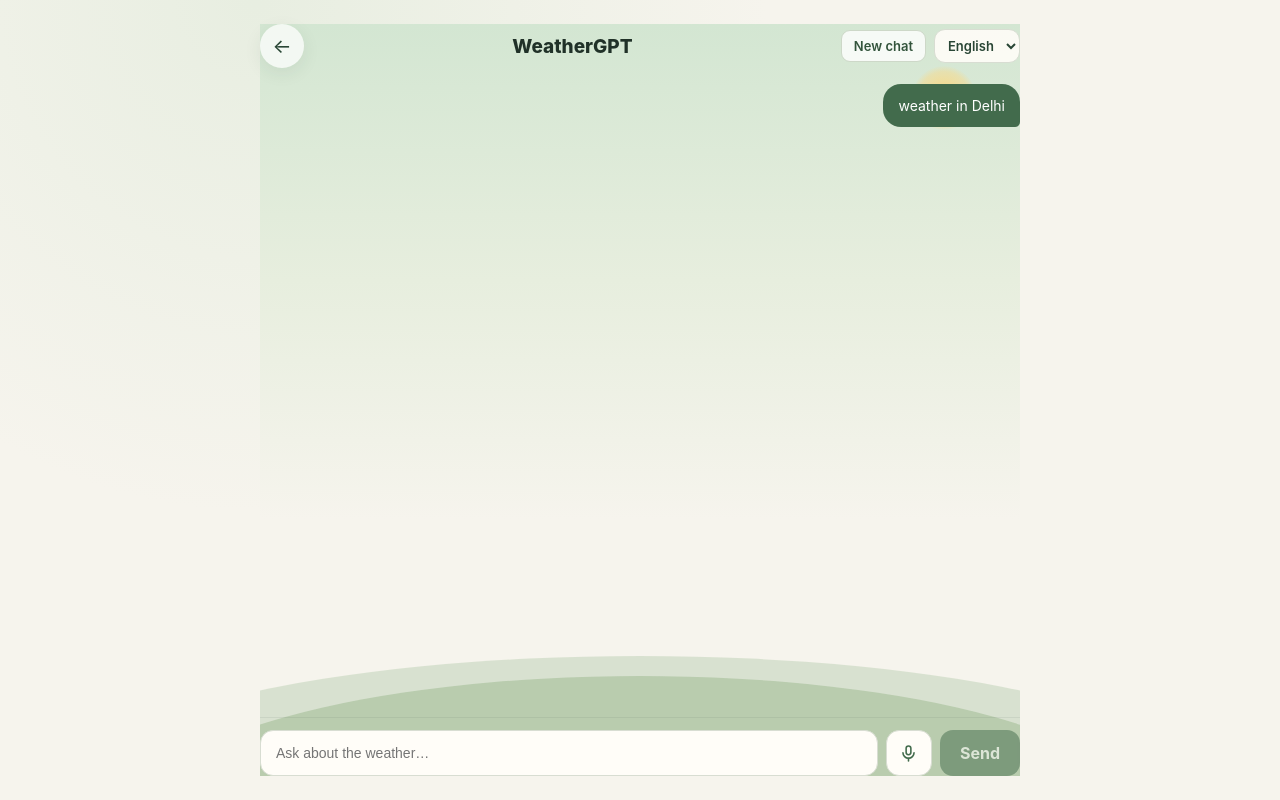
Scenario: starts a fresh conversation with New chat
The width and height of the screenshot is (1280, 800).
Check: the text "weather in Delhi" is shown, box left=898, top=95, right=1005, bottom=116
Click the button "New chat".
click(883, 46)  # box left=841, top=30, right=926, bottom=62
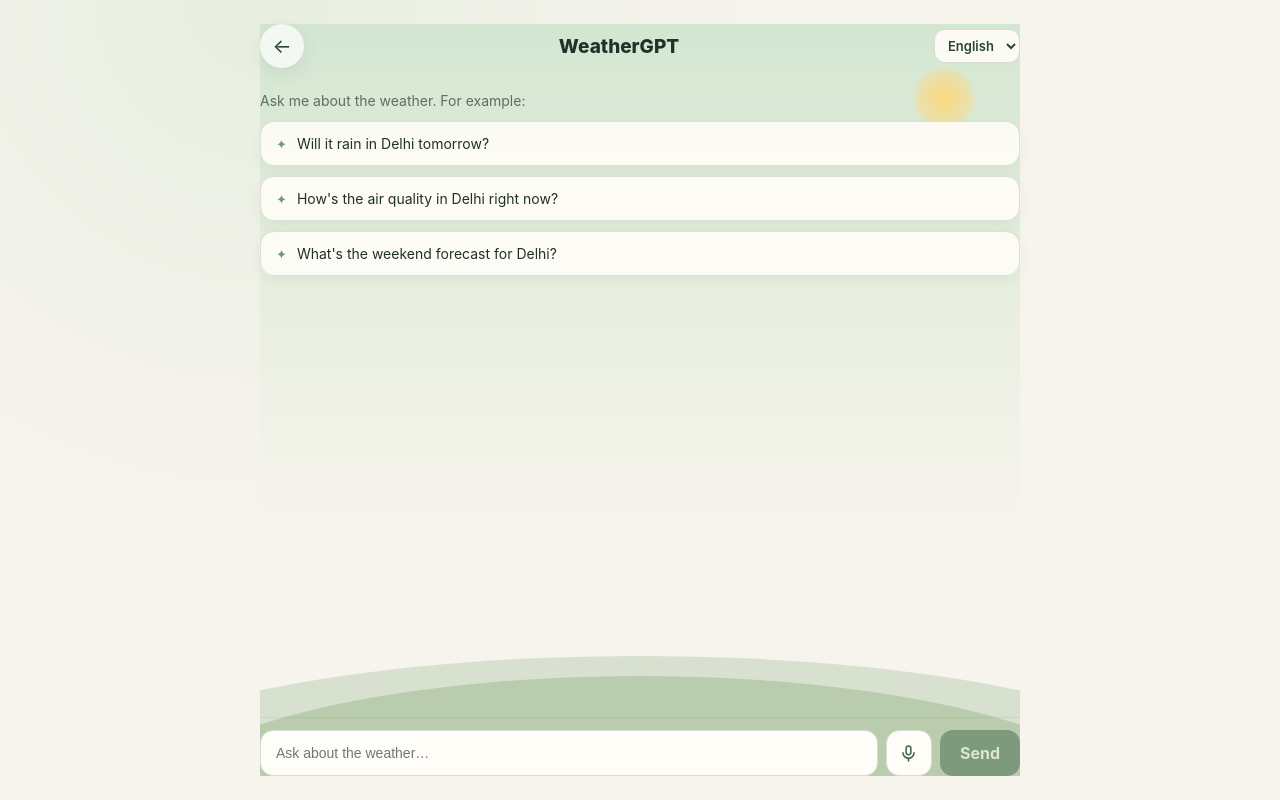
Check: the text "weather in Delhi" is gone
Check: the text "Ask me about the weather. For example:" is shown, box left=260, top=92, right=526, bottom=109
